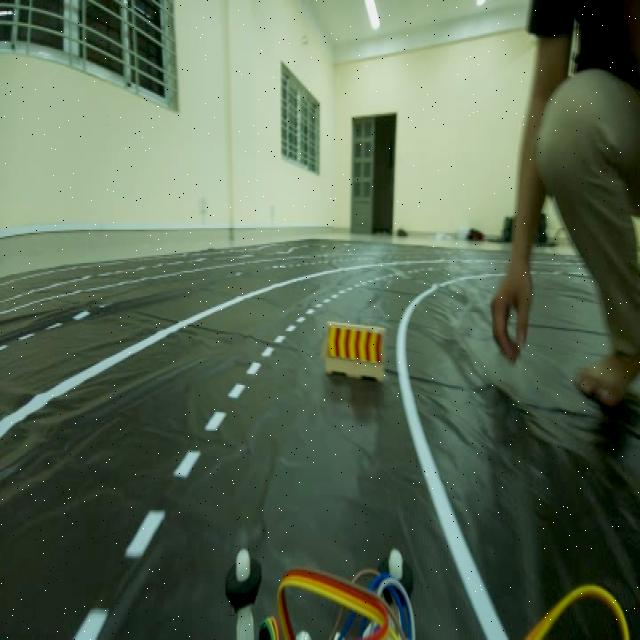roadblock: (322, 311, 388, 384)
